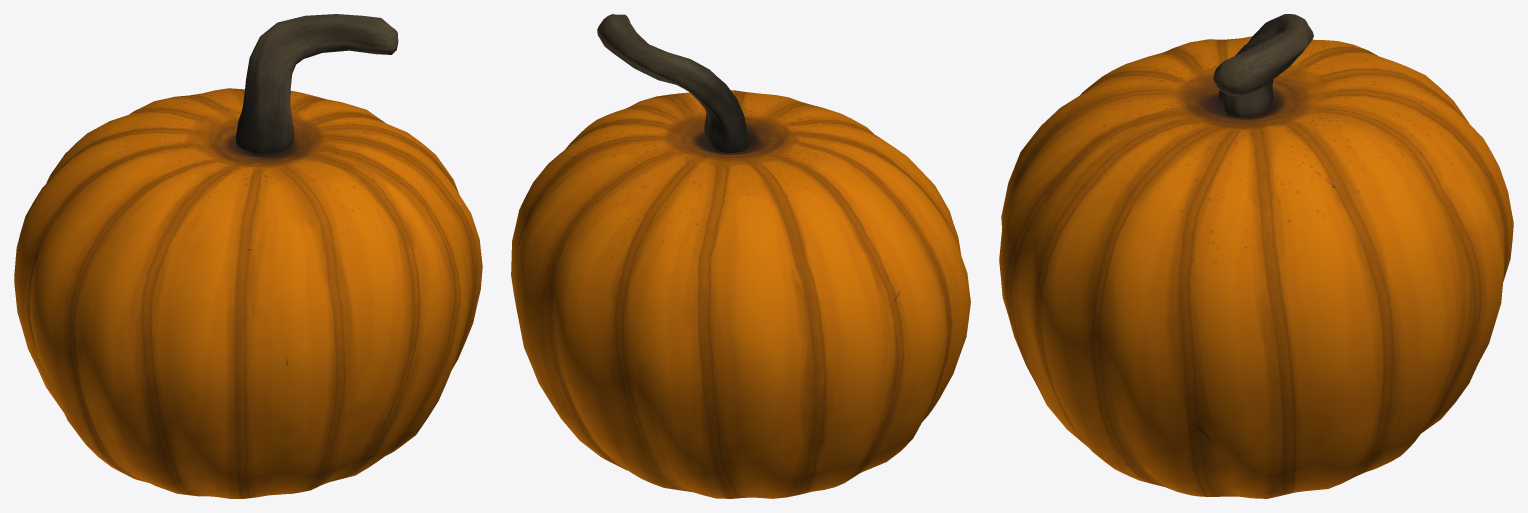
File: Kabak (3).fbx
3 views of the same model, side by side, from view 1: azimuth 30°, elevation 25°; view 2: azimuth 150°, elevation 25°; view 3: azimuth 270°, elevation 25° (orthographic). The views are drawn at different scales.
Visible parts, largest first — view 1: KabakDis, KabakSap; view 2: KabakDis, KabakSap; view 3: KabakDis, KabakSap.
Boxes of the visible parts, x1=… form: KabakDis: x1=14, y1=88, x2=482, y2=498; KabakSap: x1=236, y1=14, x2=398, y2=153; KabakDis: x1=511, y1=90, x2=970, y2=498; KabakSap: x1=597, y1=14, x2=747, y2=152; KabakDis: x1=999, y1=36, x2=1513, y2=498; KabakSap: x1=1213, y1=14, x2=1313, y2=117.
Bounding box in the file's own units: 63.44 × 62.91 × 65.92.
